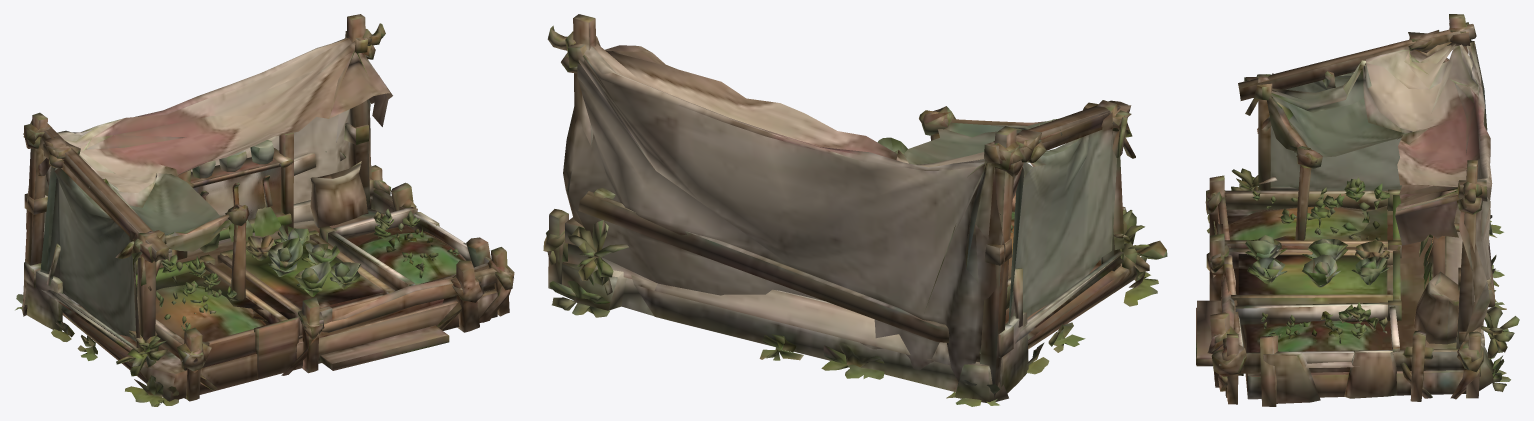
Rendered from shelter_t1_garden.glb.
The picture shows the model from 3 angles, left to right: view 1: azimuth 30°, elevation 25°; view 2: azimuth 150°, elevation 25°; view 3: azimuth 270°, elevation 25°; orthographic projection. The views are drawn at different scales.
Bounding box in the file's own units: 0.3198 × 0.1724 × 0.2231.
Materials: 1 (1 with a texture image).
